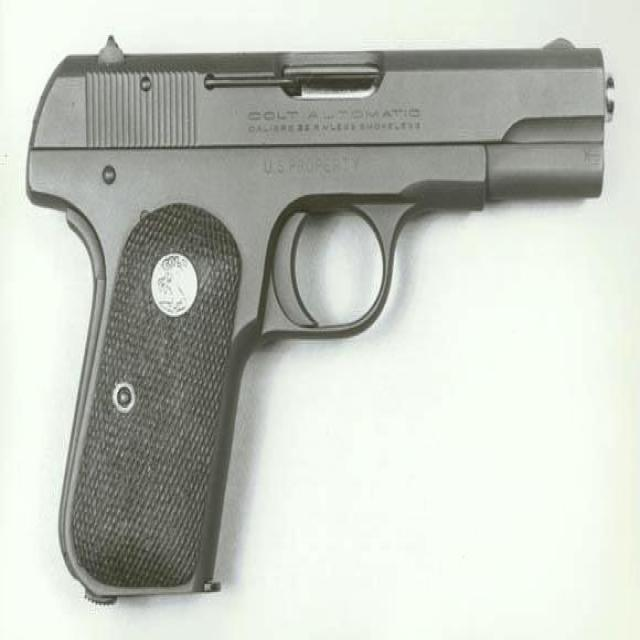Pistol: (20, 15, 640, 634)
